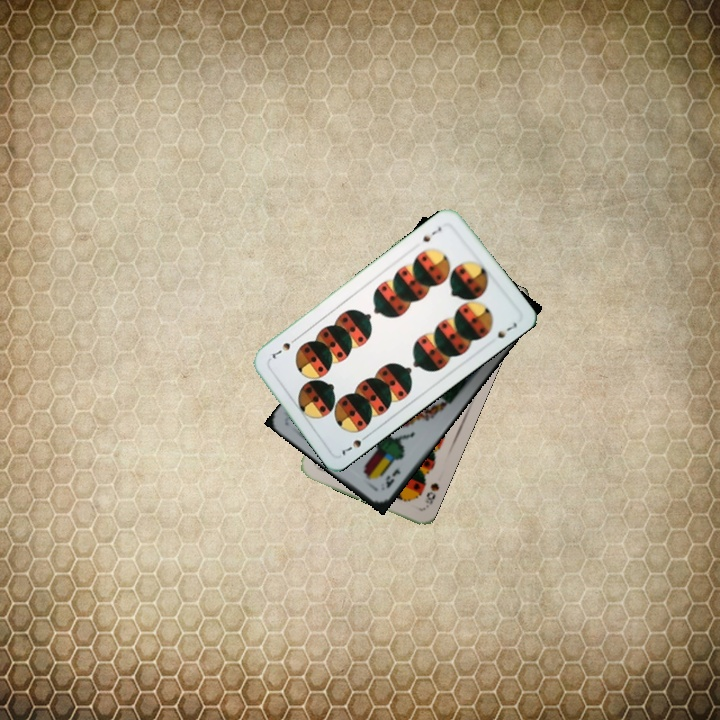EK: (381, 465, 403, 491)
S7: (338, 430, 372, 459), (419, 223, 444, 245)
S8: (419, 479, 442, 511)
